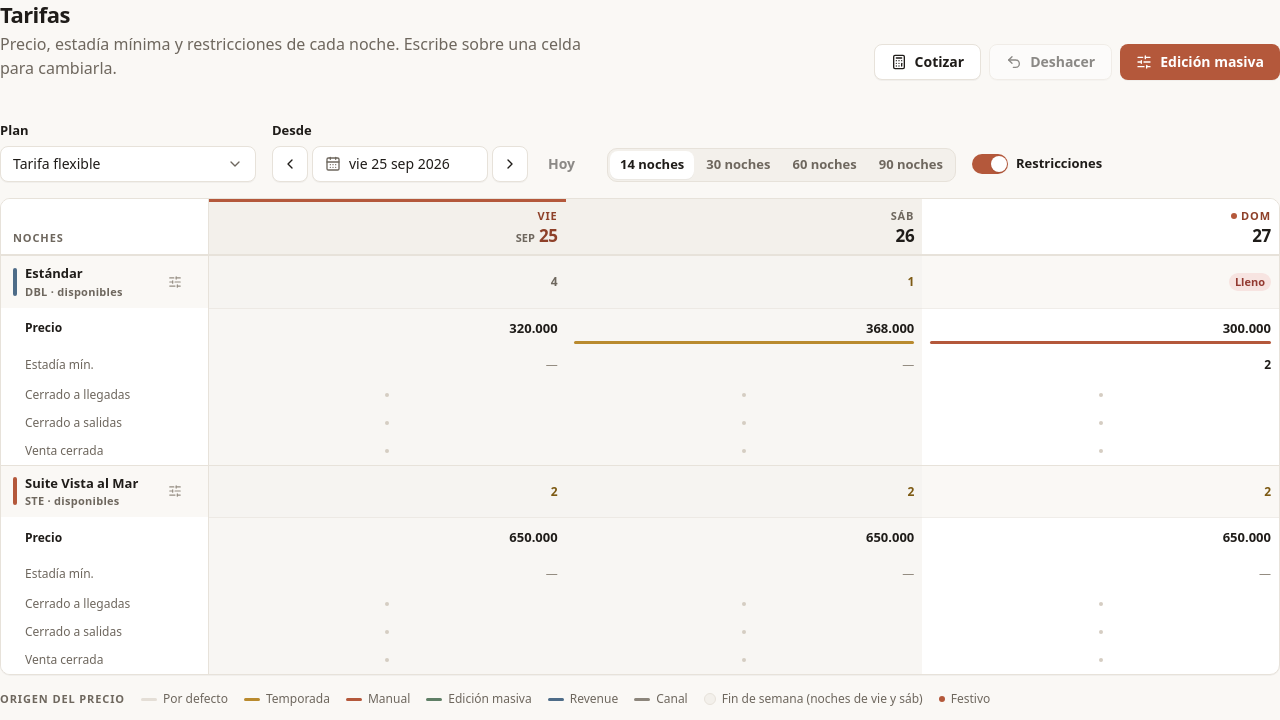
it: quote tester › explains why a stay cannot be sold
Click the button "Cotizar" at (927, 62), box [874,44,981,80]
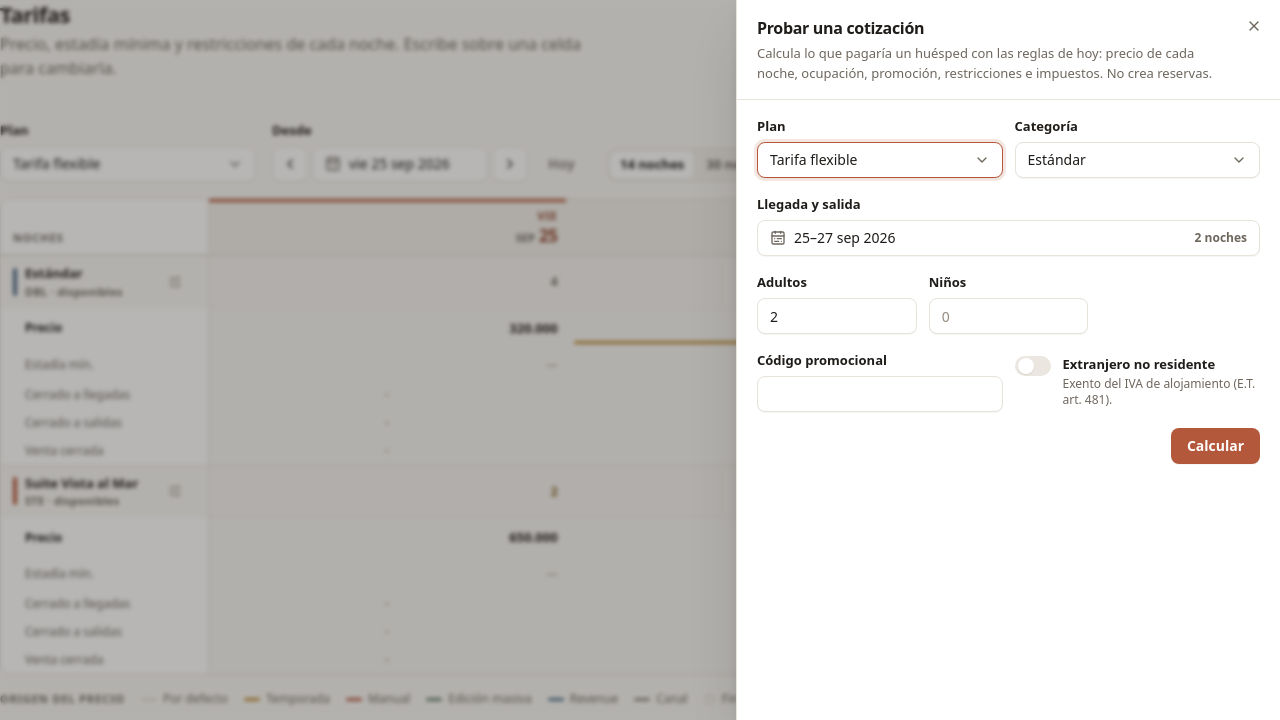
Click the button "Calcular" at (1215, 446), box [1171,428,1260,464]
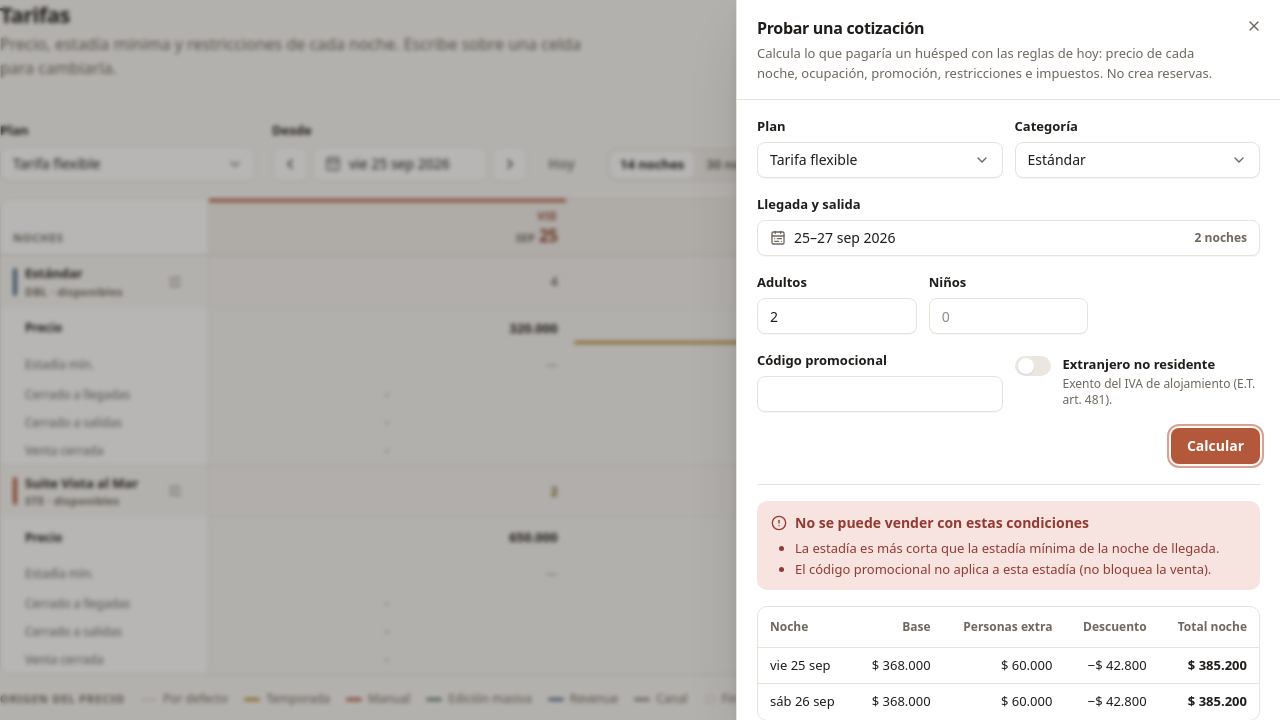
Expected: the text "No se puede vender con estas condiciones" is shown, [771,513,1089,532]
Expected: the list item "La estadía es más corta que la estadía mínima de la noche de llegada." is shown, [795,539,1246,558]
Expected: the list item "El código promocional no aplica a esta estadía (no bloquea la venta)." is shown, [795,560,1246,578]
